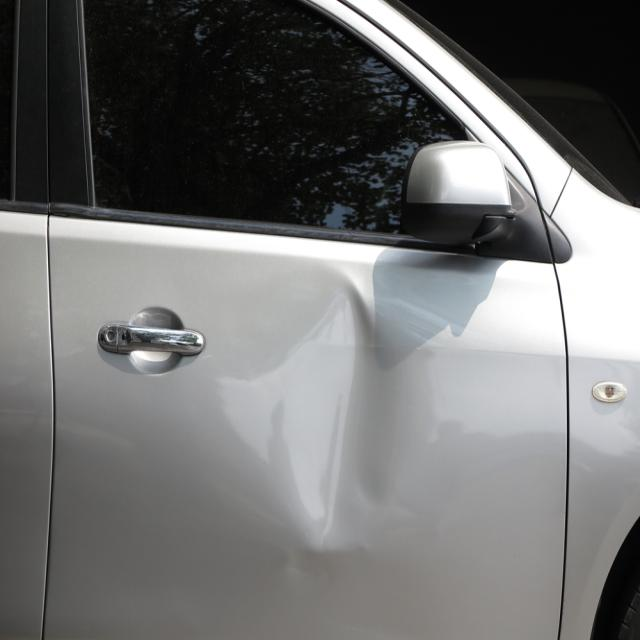Cabossage: (215, 242, 445, 574)
